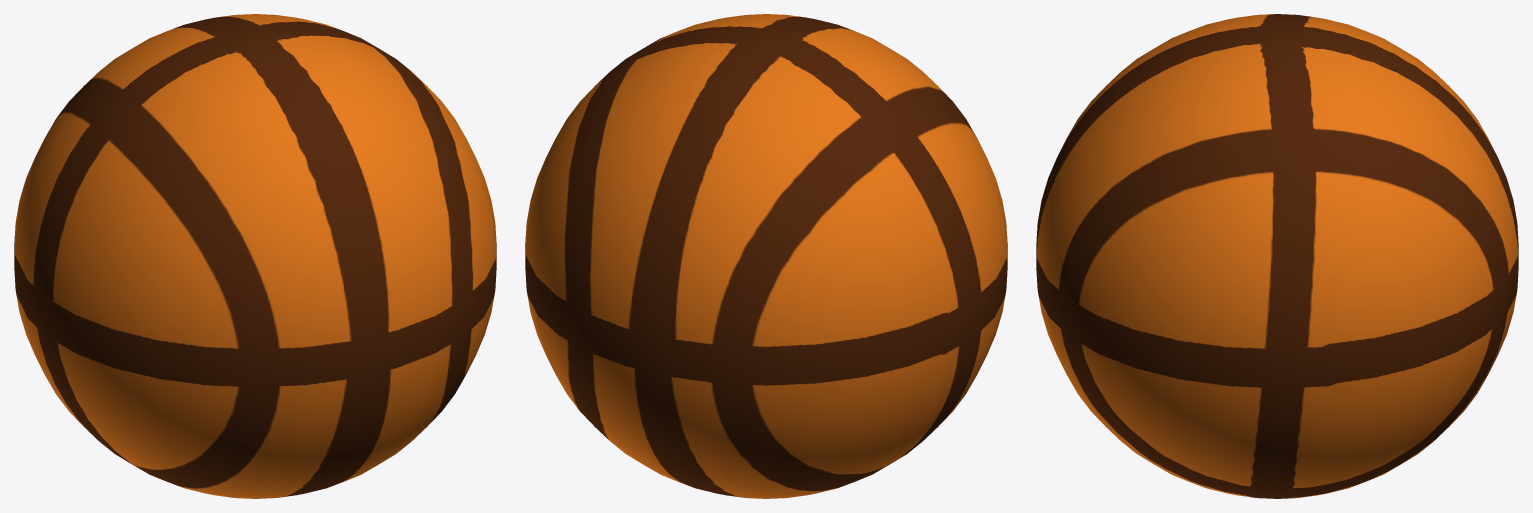
The model's file is ball6.fbx.
3 renders of one model, left to right at view 1: azimuth 30°, elevation 25°; view 2: azimuth 150°, elevation 25°; view 3: azimuth 270°, elevation 25°, orthographic.
Parts seen in each view (by area): view 1: SolidSphere; view 2: SolidSphere; view 3: SolidSphere.
Part boxes in pixels (bbox=[...]): SolidSphere: bbox=[14, 14, 496, 498]; SolidSphere: bbox=[525, 14, 1007, 498]; SolidSphere: bbox=[1036, 14, 1518, 498].
Size of the model in its own units: 101 by 101 by 100.
